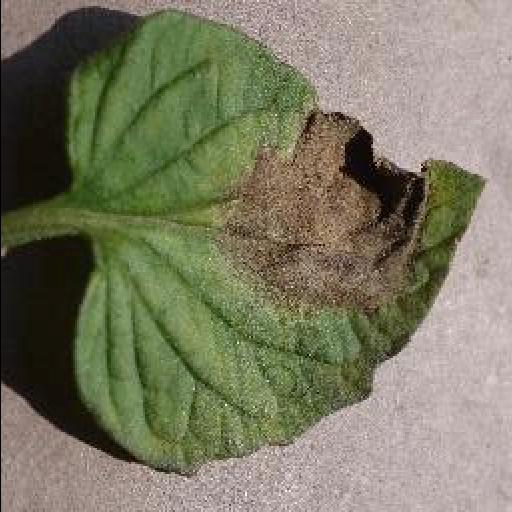Late Blight: (66, 8, 488, 480)
